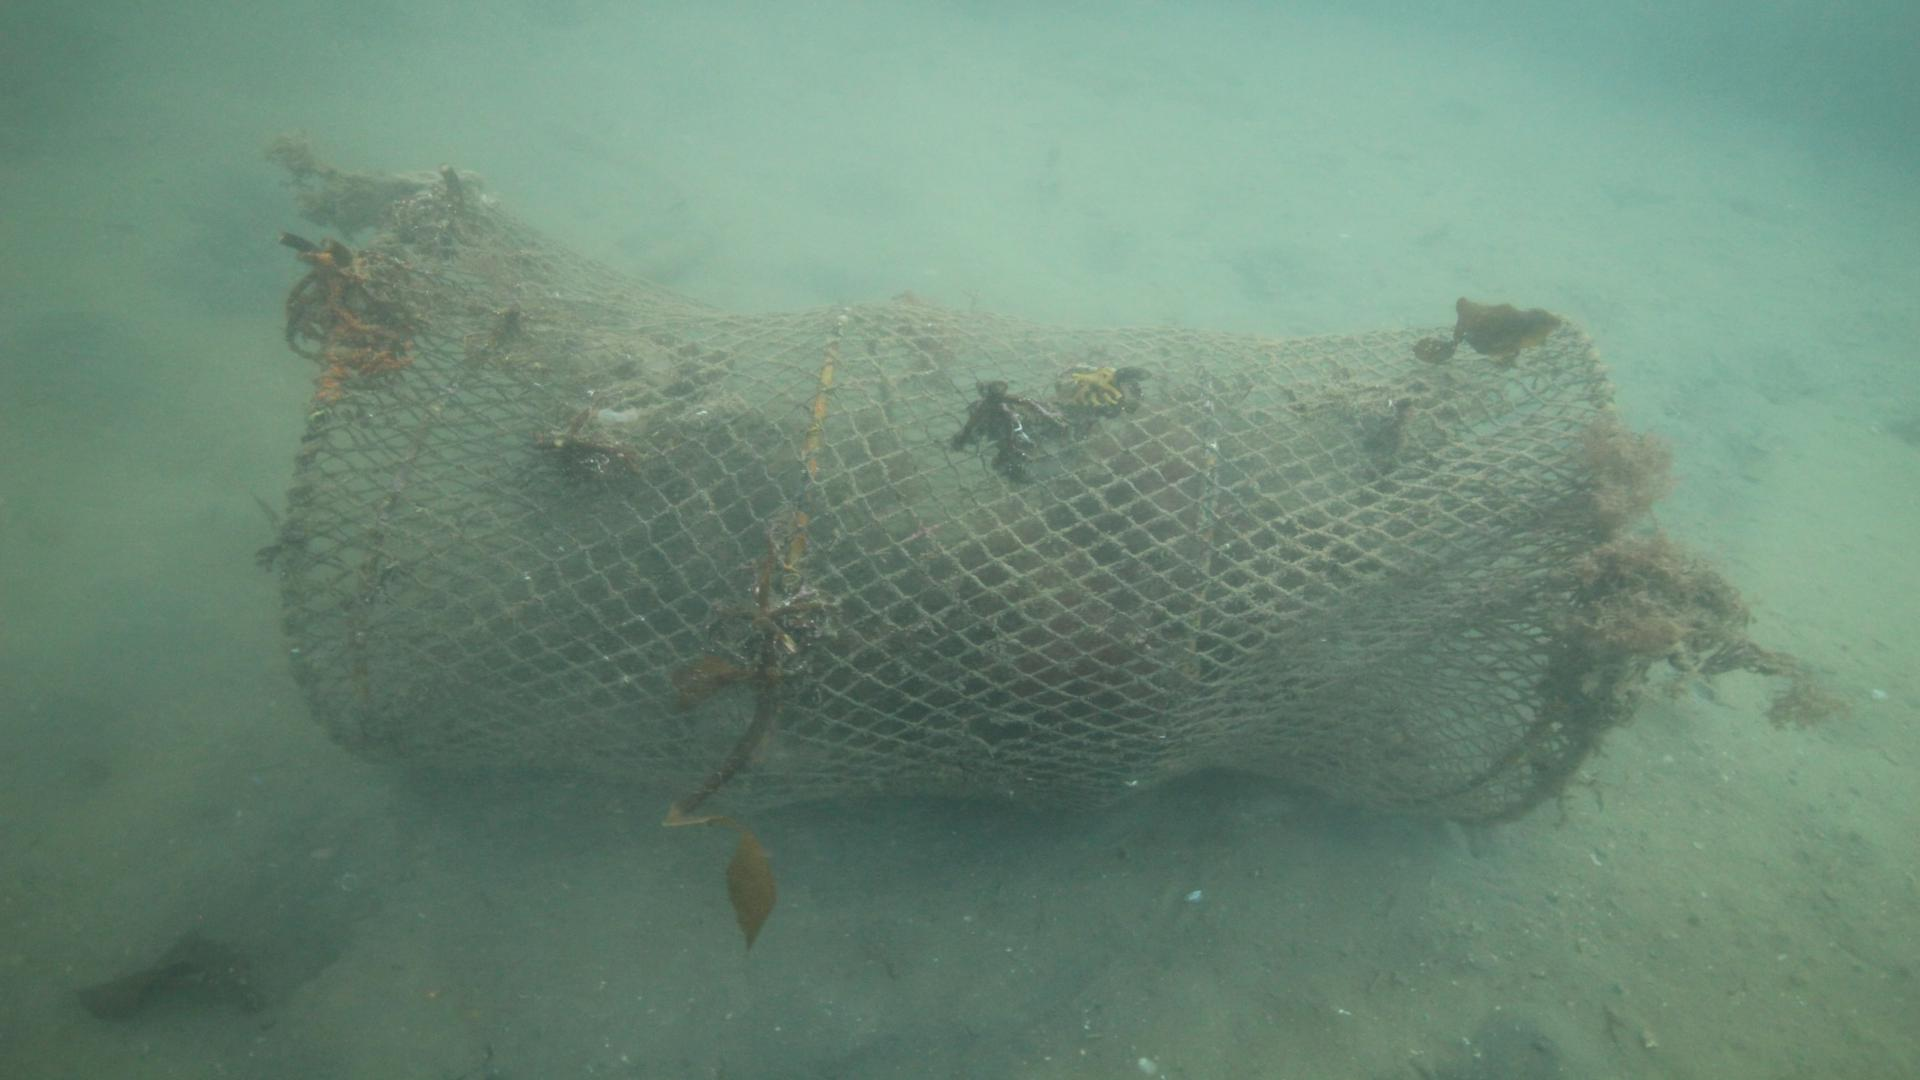spring fish trap: (274, 179, 1625, 825)
